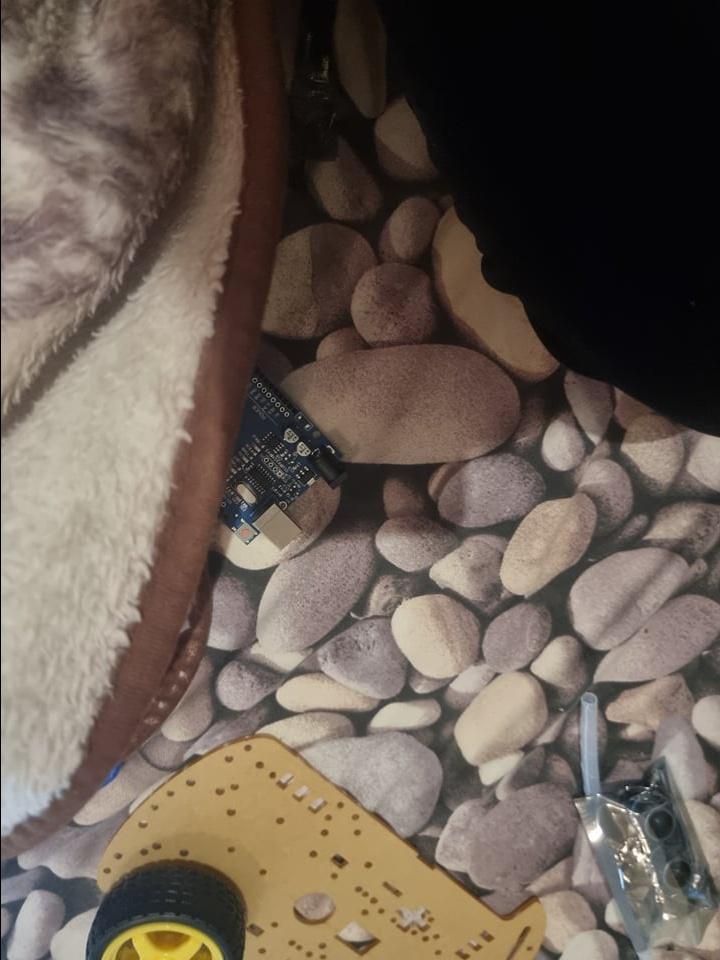5V EXPANSION: (211, 364, 348, 548)
SENSOR: (627, 795, 697, 899)
